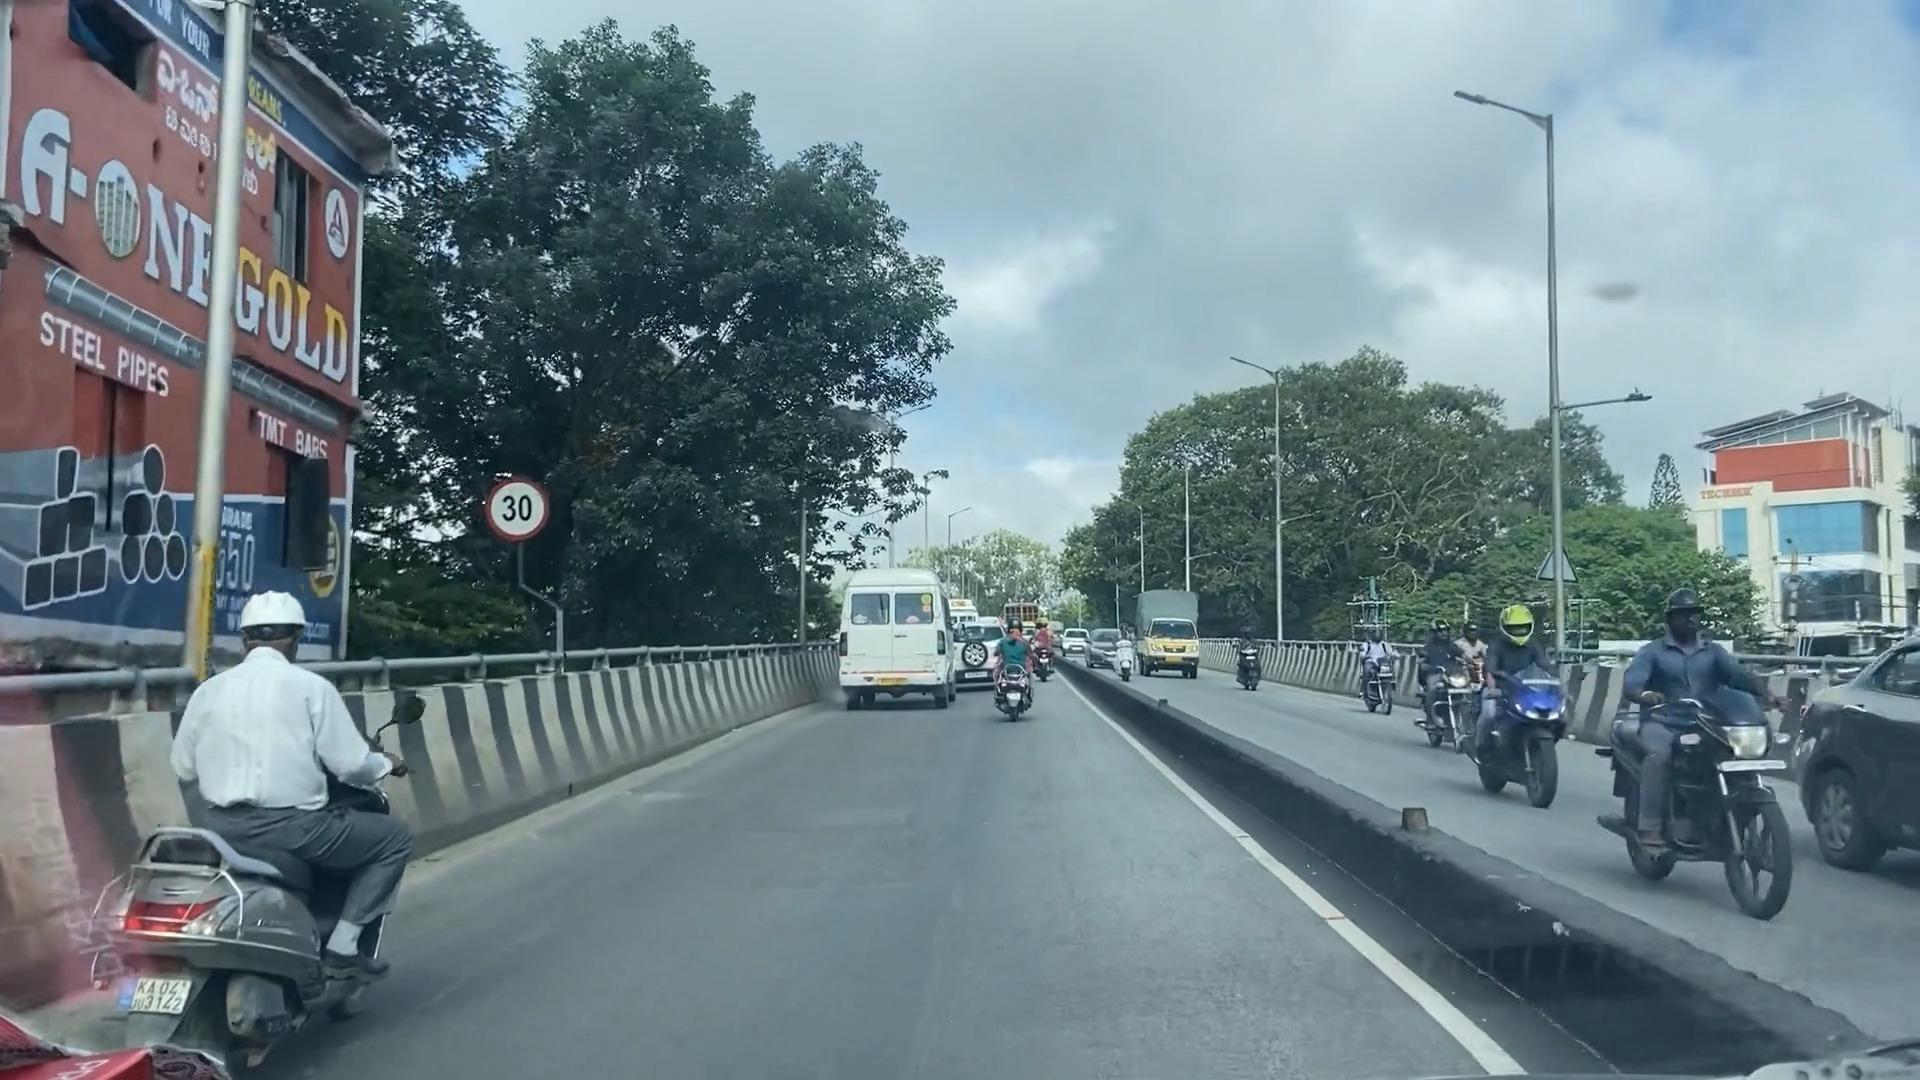HMV: (835, 570, 945, 704)
LMV: (115, 575, 363, 1080), (997, 615, 1030, 720)
RoadDamages: (439, 893, 589, 1013)
